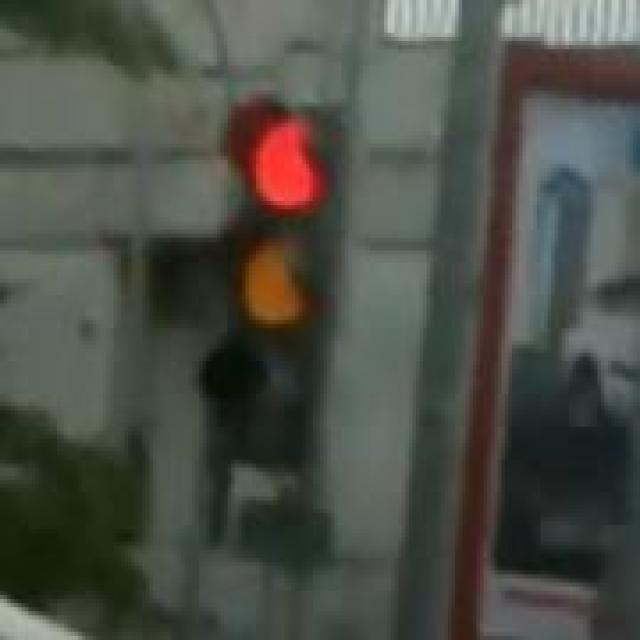yellow_light: (203, 94, 352, 472)
